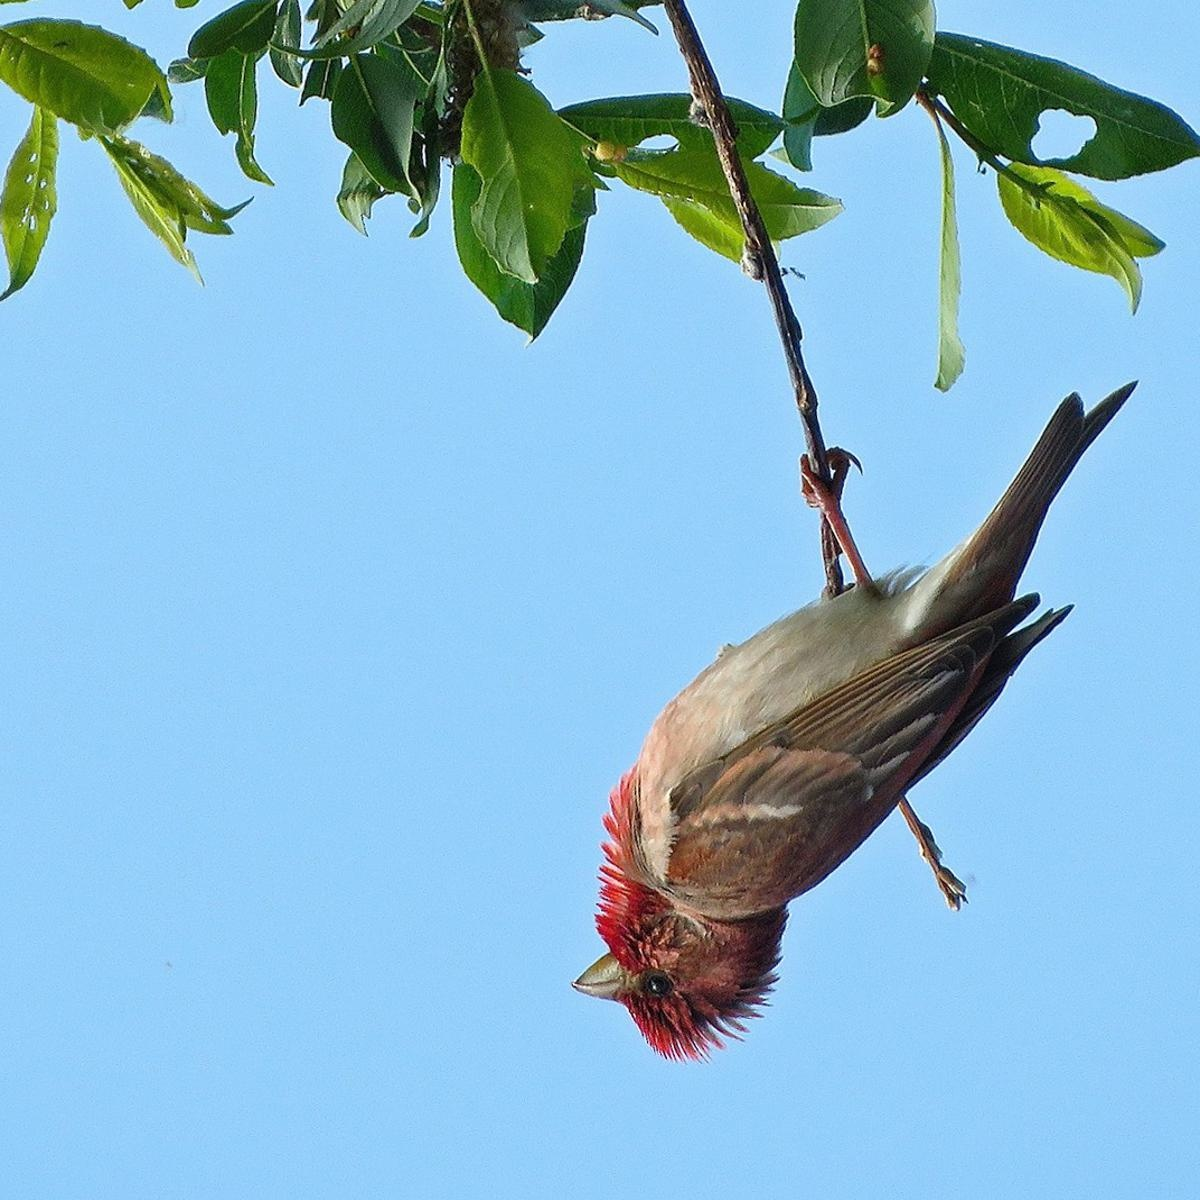rosefinch: (520, 427, 1129, 1059)
